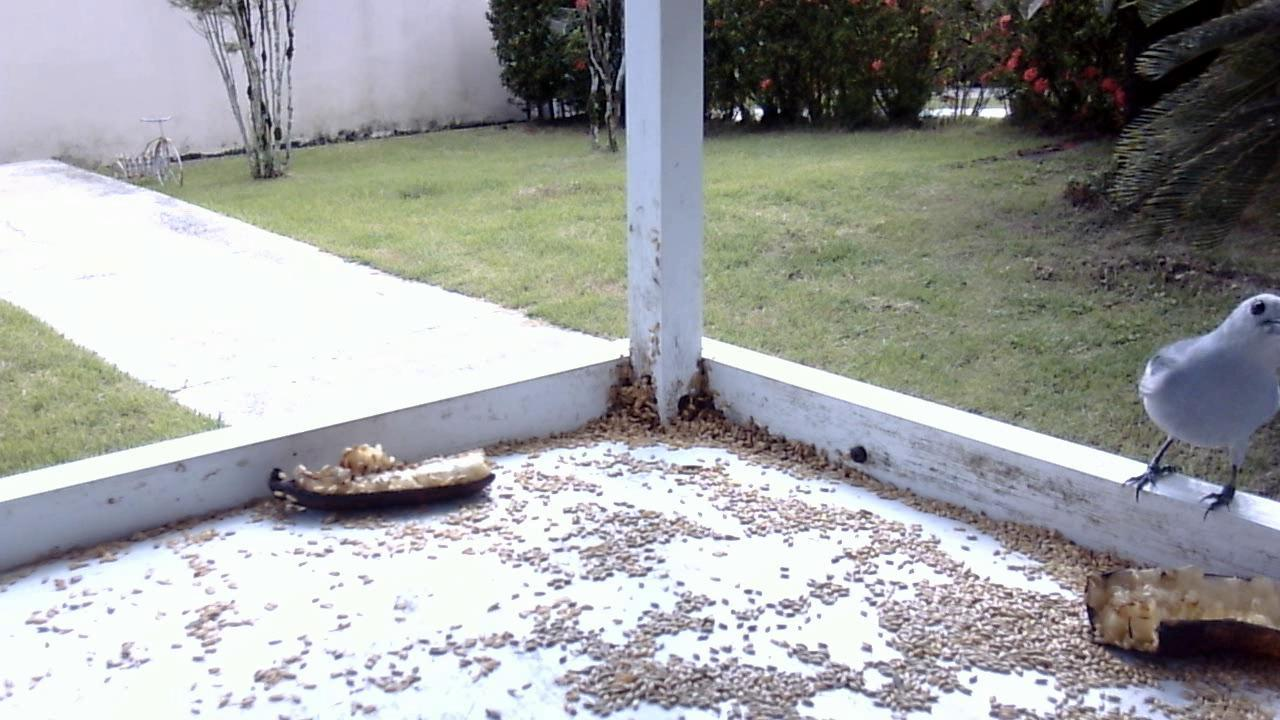sanhaco_da_amazonia: (1120, 288, 1278, 521)
